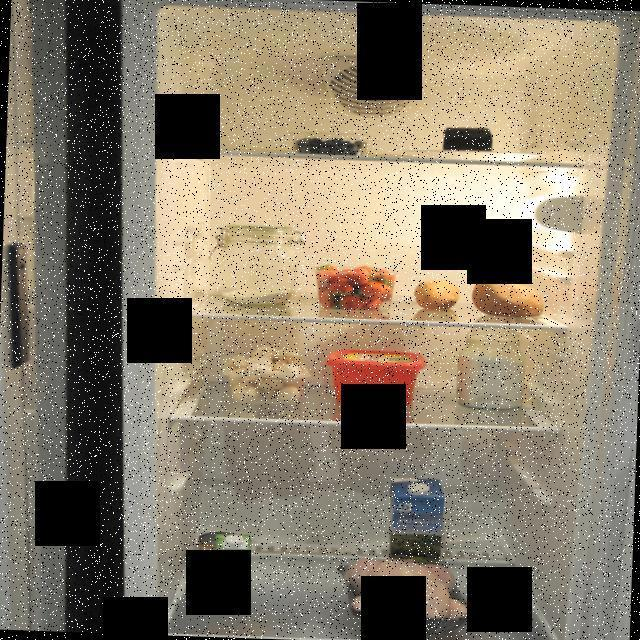blueberries: (286, 130, 378, 156)
butter: (323, 346, 428, 408)
cheese: (438, 122, 497, 157)
chicken: (332, 553, 478, 634)
corn: (197, 530, 244, 576)
flour: (198, 222, 308, 314)
heavy_cream: (213, 532, 252, 603)
milk: (386, 474, 450, 566)
mushrooms: (217, 342, 311, 402)
strawberries: (310, 260, 398, 314)
sugar: (454, 324, 528, 412)
sweet_potato: (470, 272, 546, 320), (412, 276, 461, 314)
